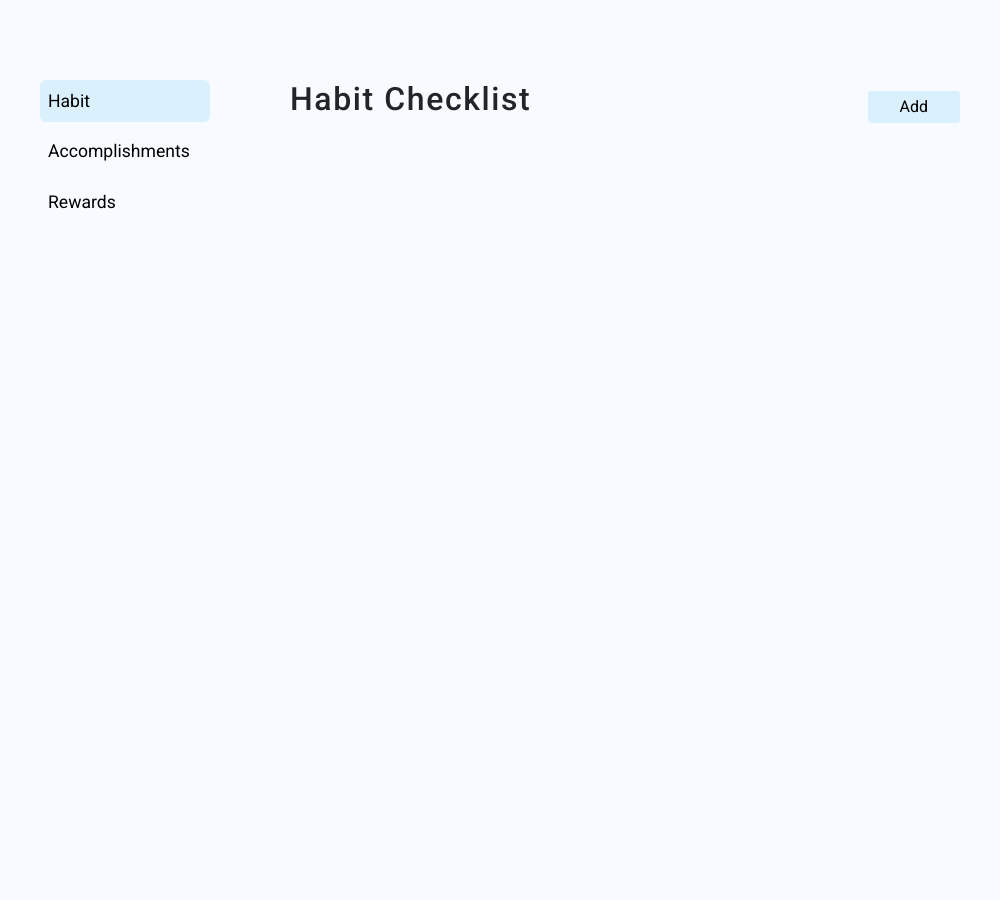
Habit dashboard tests › When you click the save button, habit card appears
Click the button "Add" at (915, 107), box 868,91 -> 961,123
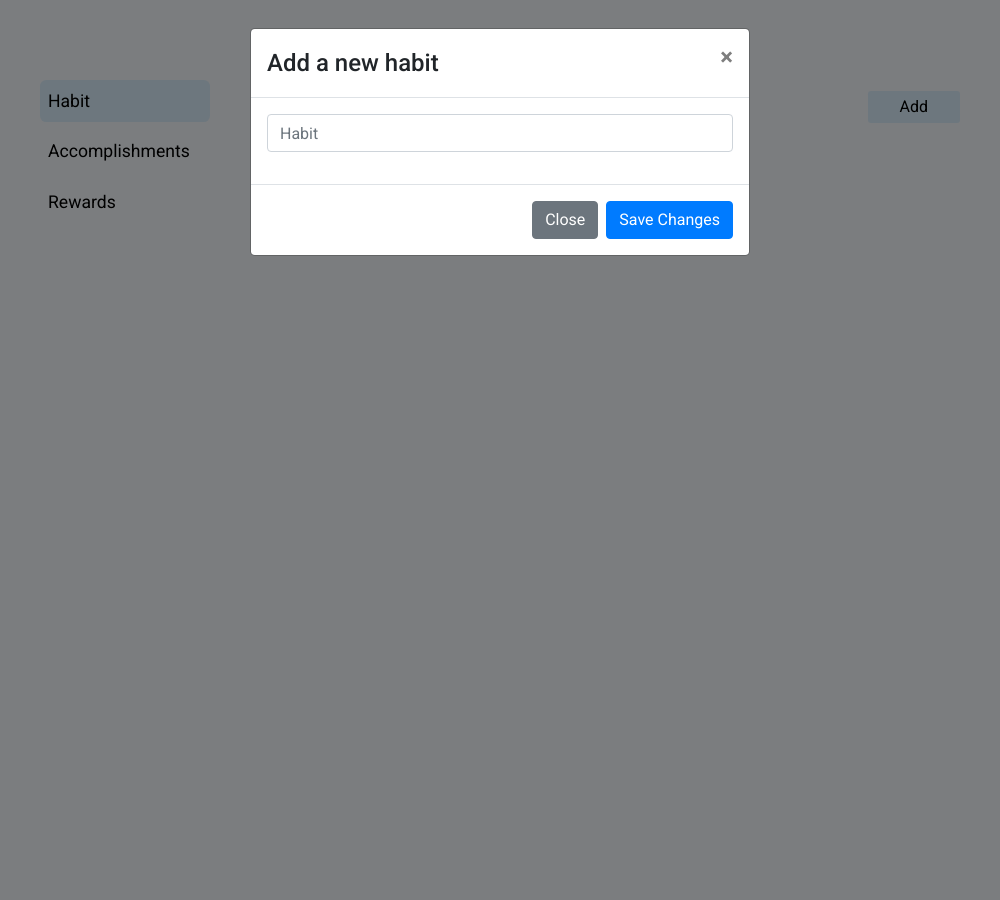
Type "hello" into the field with placeholder "Habit" at (500, 133), box 267,114 -> 733,152
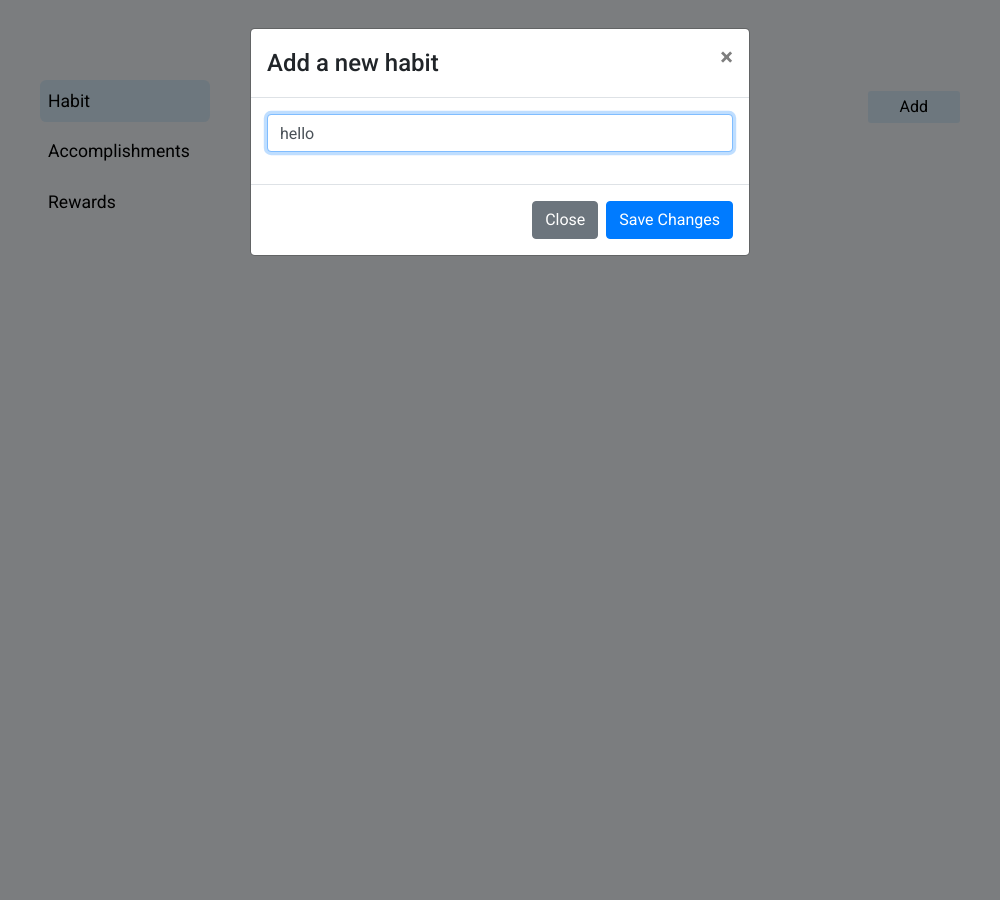
Click the button "Save Changes" at (670, 220), box 606,201 -> 733,239
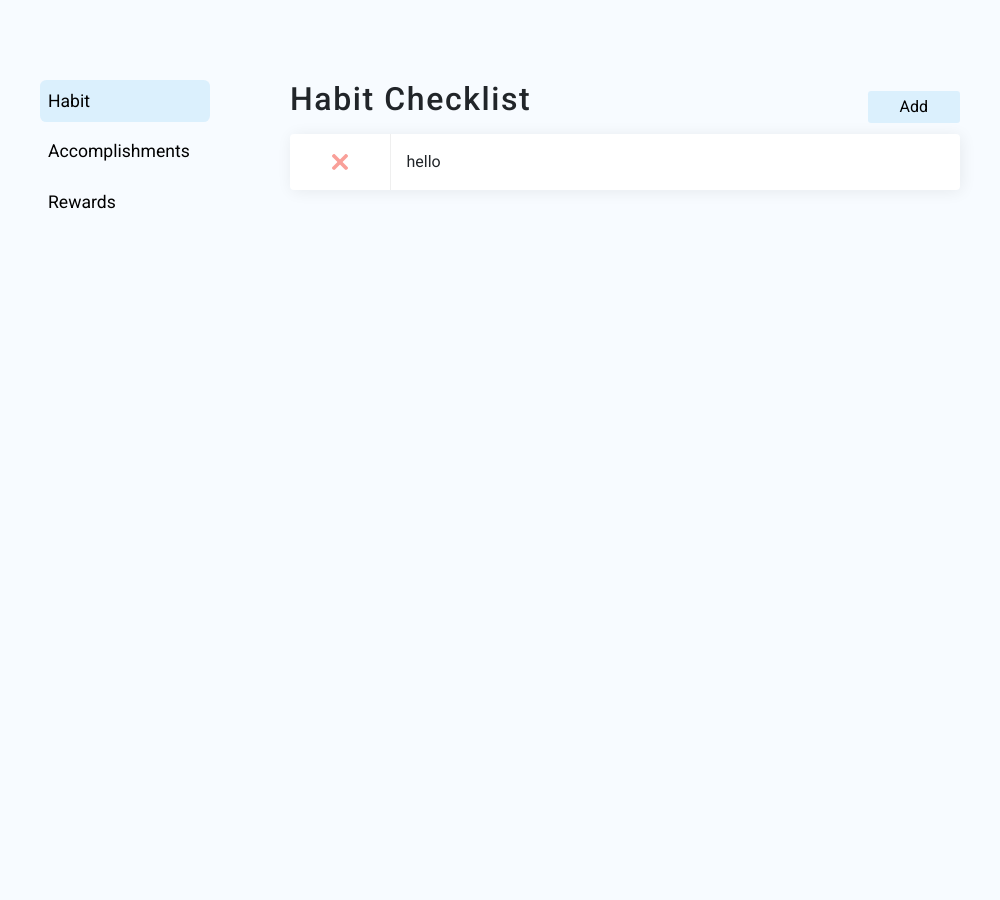
Now the element with class "HabitCard" reads "hello", box 290,134 -> 960,190
Now the picture is shown, box 332,150 -> 348,174
